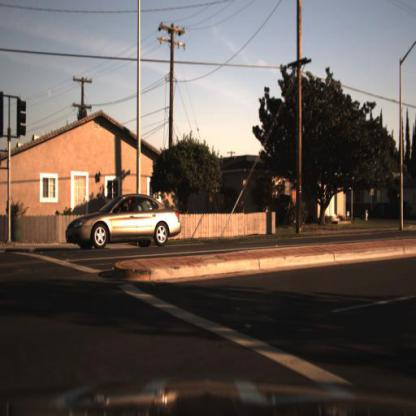car: (66, 195, 183, 251)
